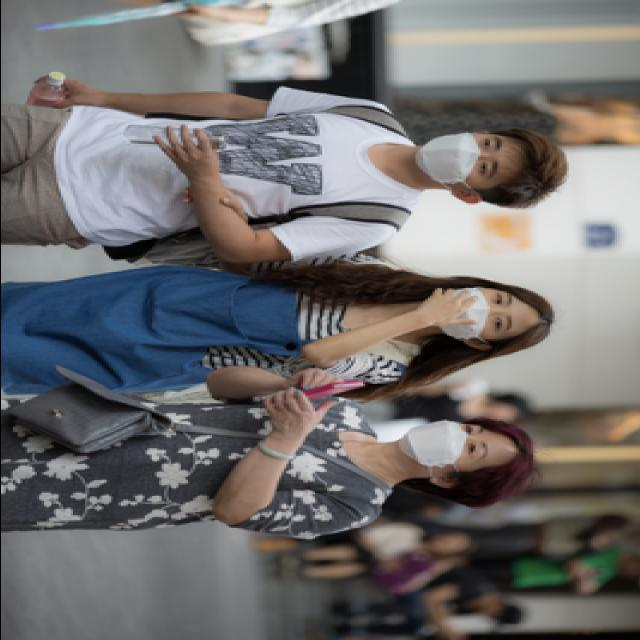mask: (414, 132, 508, 186), (400, 420, 494, 470), (434, 284, 520, 338)
